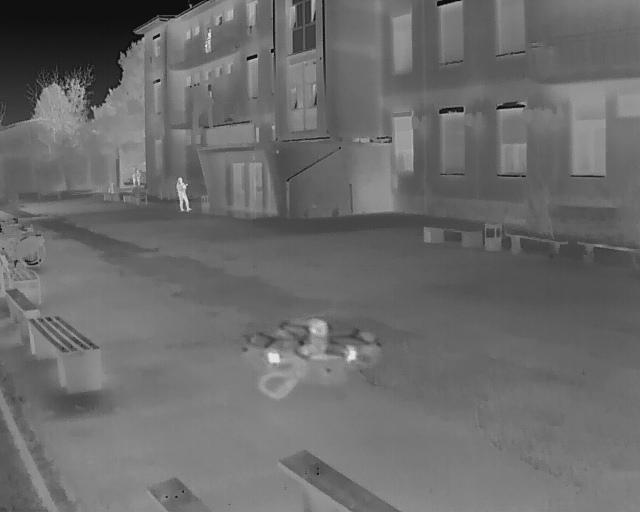drone: (234, 312, 388, 405)
